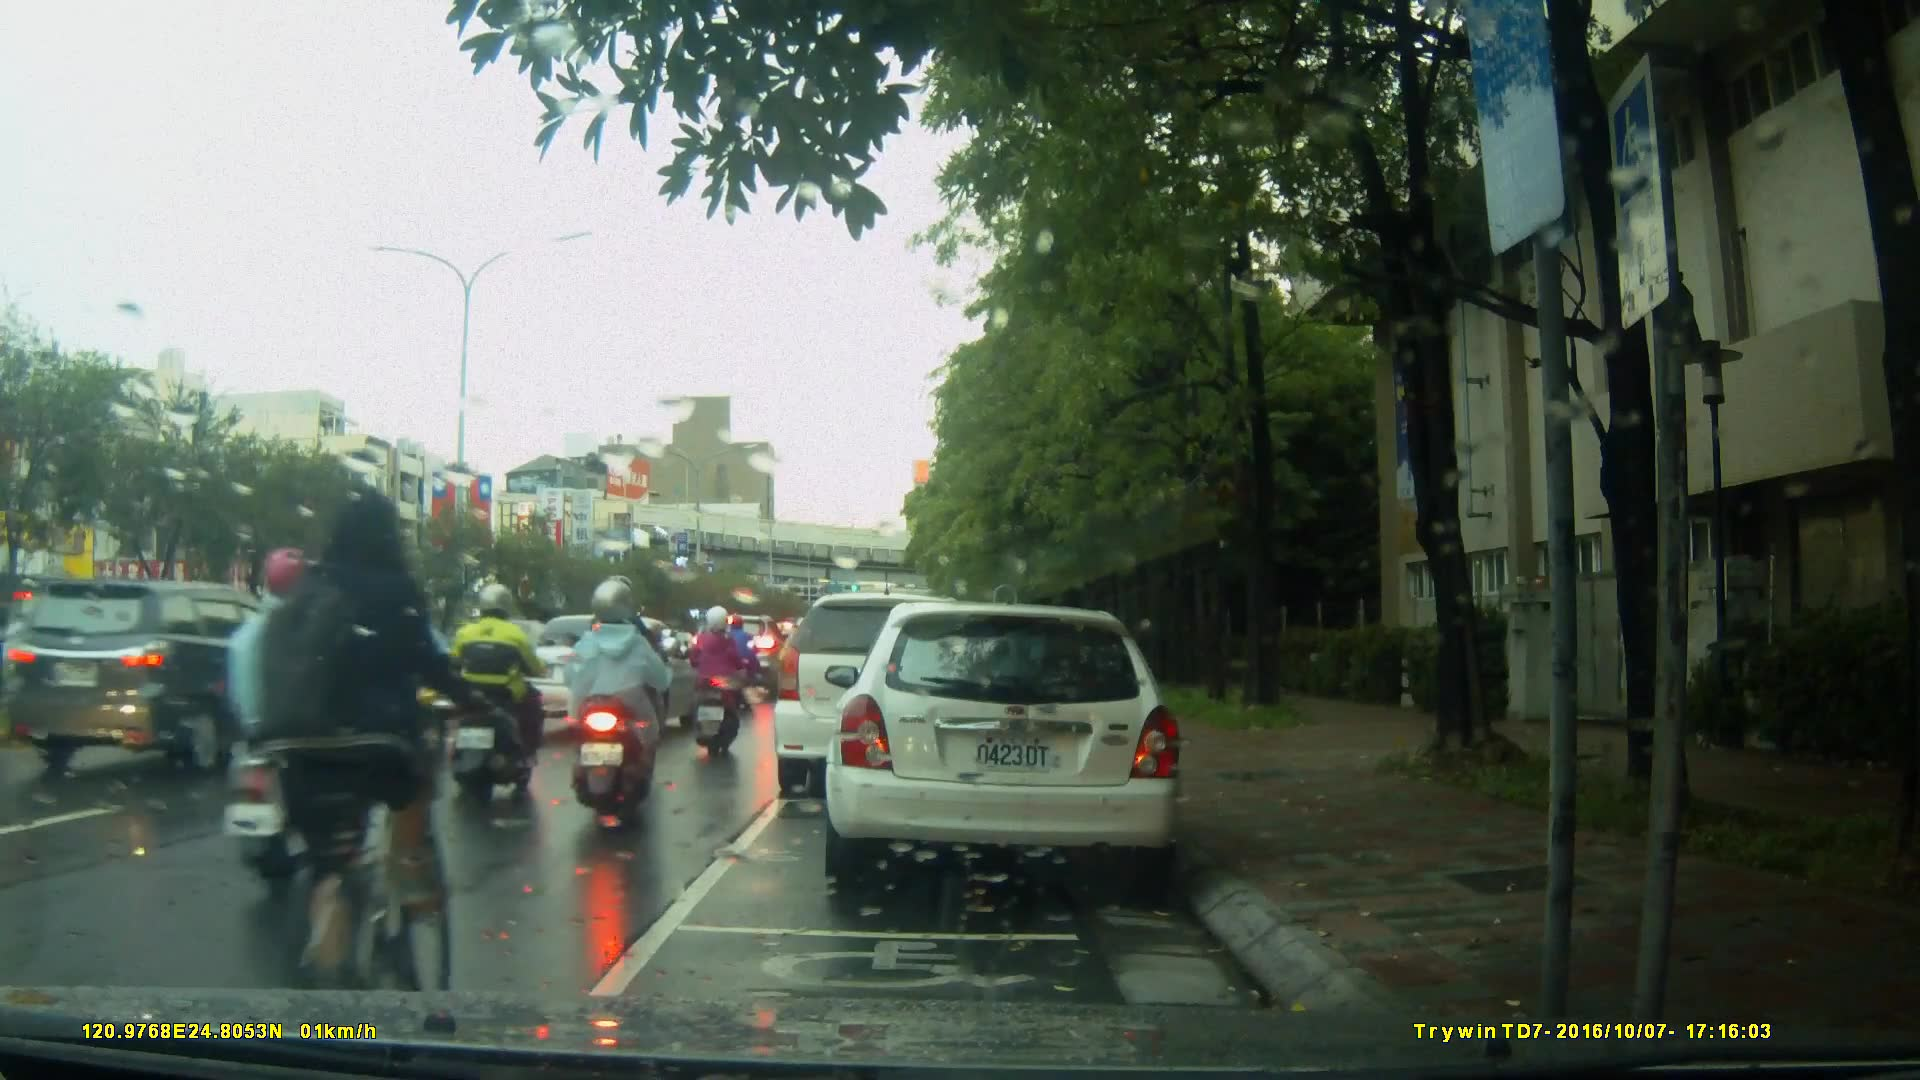rider: (255, 478, 486, 1018), (235, 543, 373, 908), (574, 576, 667, 830), (451, 581, 557, 800), (588, 578, 673, 785), (683, 610, 747, 766), (717, 610, 760, 694)
vehicle: (822, 604, 1188, 883), (23, 576, 339, 783), (774, 595, 995, 802), (692, 614, 794, 702)
